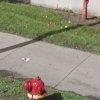Hydrant: (18, 70, 54, 100)
